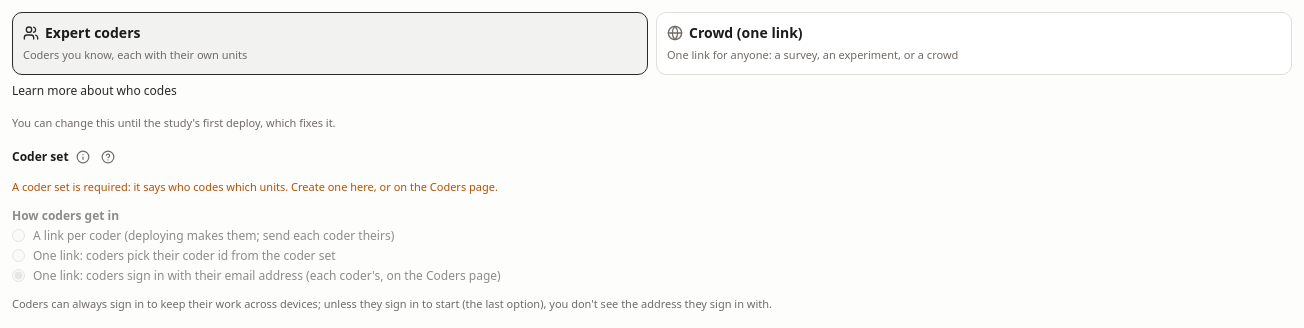
Scenario: the invitation form › until the first deploy the kind can be changed: the other card starts that kind's invitation
This screenshot has width=1304, height=328.
Later steps or results of the test are not shown.
Expected: the text "until the study's first deploy" is shown, [12,114,336,130]
# The kind it has is no change
What coordinates should you click on to do the following:
click the radio button labelled "Expert coders Coders you know, each with their own units"
I would click on:
 (93, 32)
Its box is [12,12,648,74].
What coordinates should you click on to do the following:
click the radio button labelled "Crowd"
I would click on:
 (746, 32)
Its box is [656,12,1292,74].
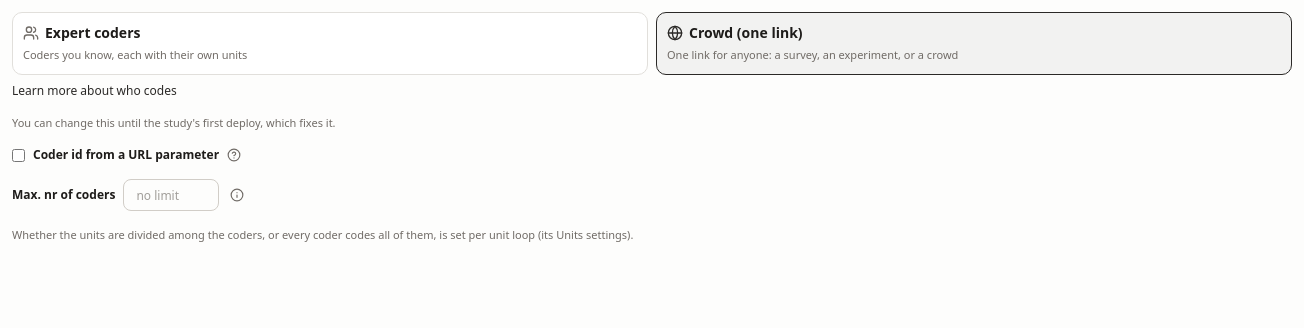
Result: the text "Max. nr of coders" is shown at [12,179,247,211]
Result: the label labelled "A link per coder" is gone
